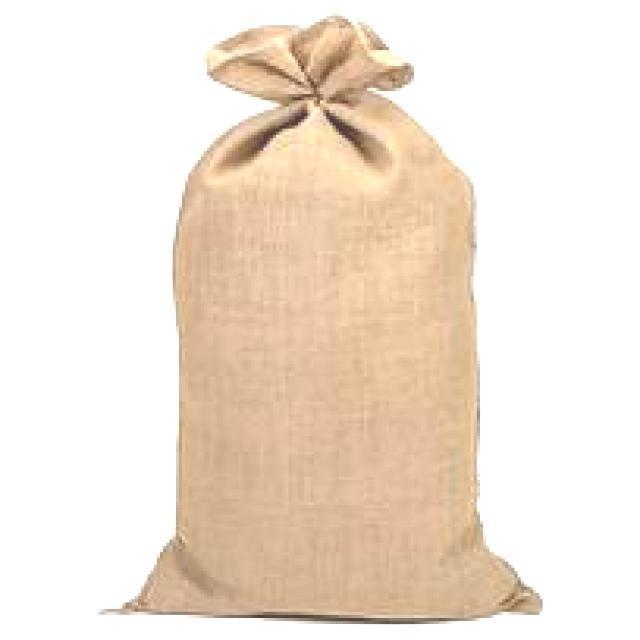gunny_bag: (97, 6, 552, 629)
